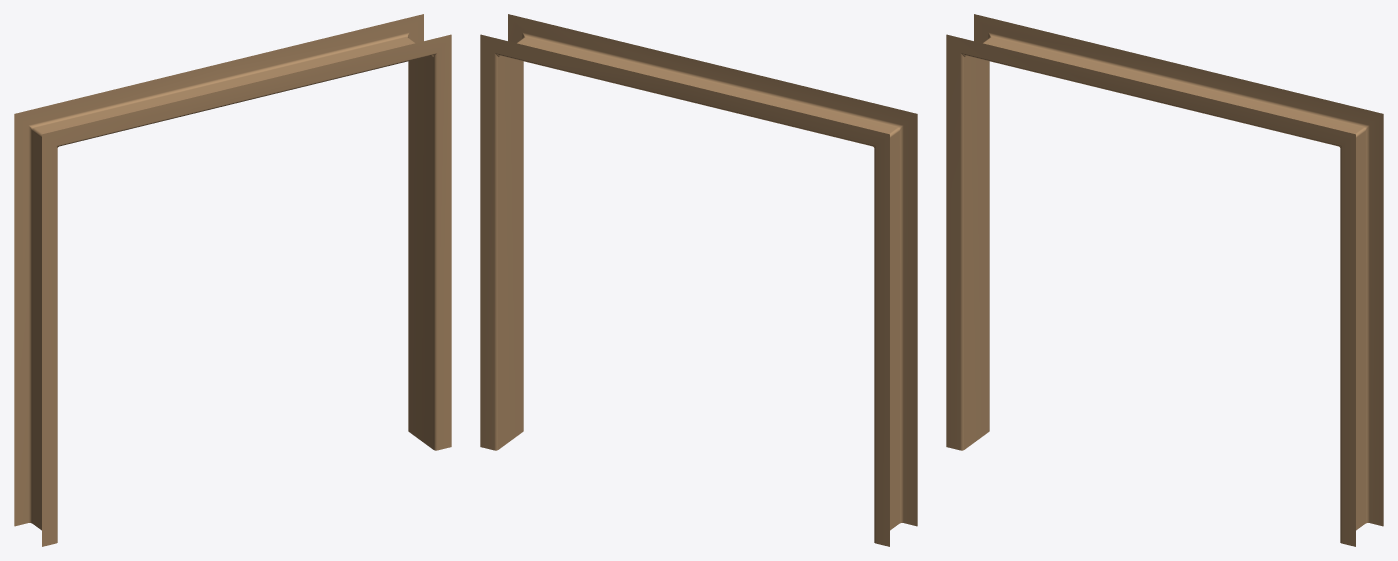
File: SM_Door_Double_Frame.fbx
3 views of the same model, side by side, from view 1: azimuth 30°, elevation 25°; view 2: azimuth 150°, elevation 25°; view 3: azimuth 330°, elevation 25° (orthographic).
Visible parts, largest first — view 1: SM_Door_Frame.001; view 2: SM_Door_Frame.001; view 3: SM_Door_Frame.001.
Part boxes in pixels (box(x1,y1,x2,y2)): SM_Door_Frame.001: box(14, 14, 451, 546); SM_Door_Frame.001: box(480, 14, 917, 546); SM_Door_Frame.001: box(946, 14, 1383, 546).
Size of the model in its own units: 327 by 314 by 38.52.
